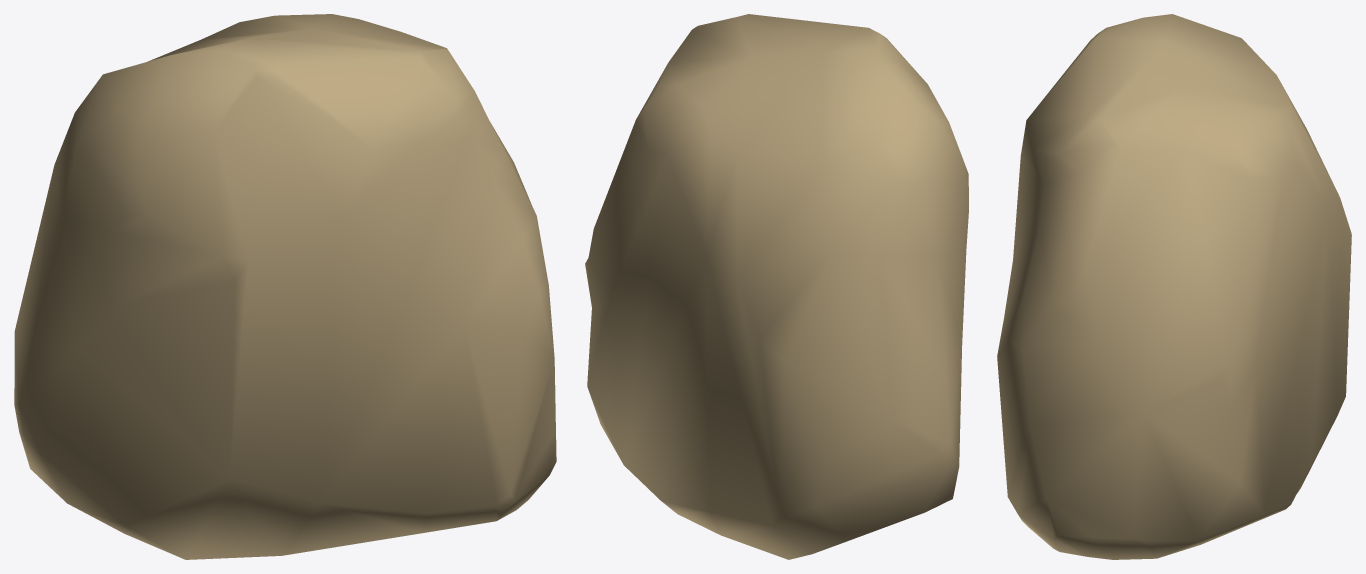
File: rock_01_low.fbx
The picture shows the model from 3 angles, left to right: view 1: azimuth 30°, elevation 25°; view 2: azimuth 150°, elevation 25°; view 3: azimuth 270°, elevation 25°; orthographic projection. The views are drawn at different scales.
Parts seen in each view (by area): view 1: rock_01_low; view 2: rock_01_low; view 3: rock_01_low.
Boxes of the visible parts, box(x1,y1,x2,y2) form: rock_01_low: box(14, 14, 556, 559); rock_01_low: box(585, 14, 968, 559); rock_01_low: box(997, 14, 1351, 559).
Size of the model in its own units: 356 by 394 by 280.
